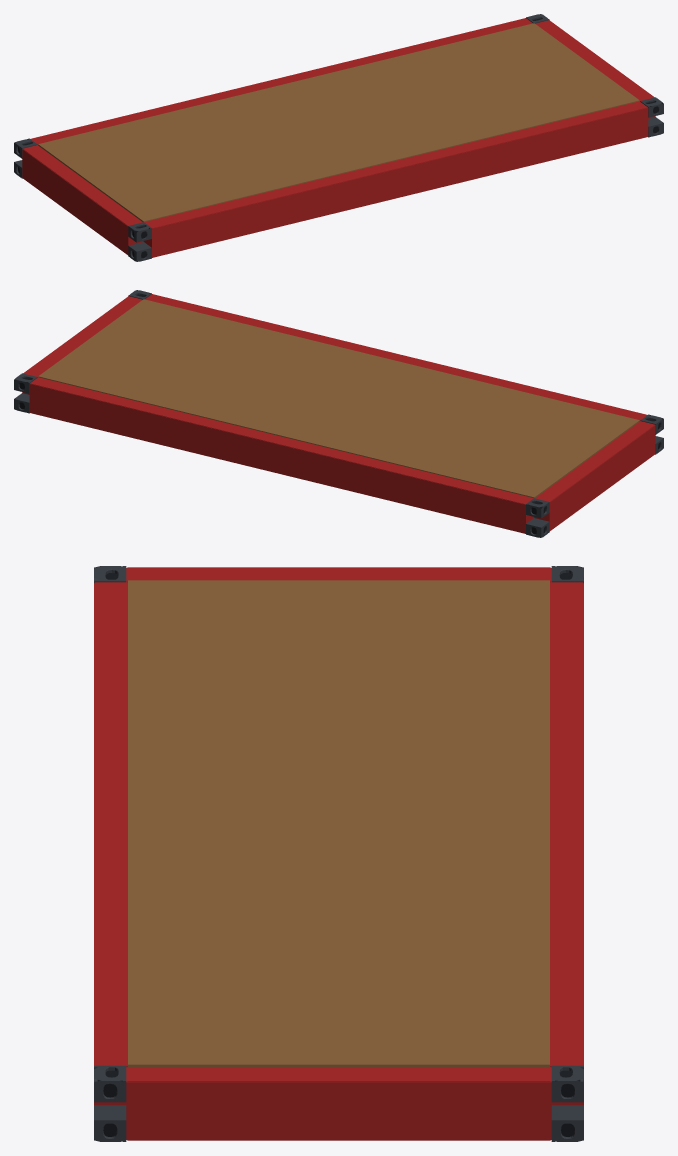
The model's file is iso_20ft_pl_29p0.obj.
3 renders of one model, top to bottom at view 1: azimuth 30°, elevation 25°; view 2: azimuth 150°, elevation 25°; view 3: azimuth 270°, elevation 25°, orthographic. The views are drawn at different scales.
Parts seen in each view (by area): view 1: 03_Marine_Wood_Floor, 02_Platform_Girders, 01_ISO_Corner_Castings_Hollow3D; view 2: 03_Marine_Wood_Floor, 02_Platform_Girders, 01_ISO_Corner_Castings_Hollow3D; view 3: 03_Marine_Wood_Floor, 02_Platform_Girders, 01_ISO_Corner_Castings_Hollow3D, 01_ISO_Corner_Castings_Hollow3D_Cavity.
Boxes of the visible parts, bbox=[...] form: 03_Marine_Wood_Floor: bbox=[38, 23, 639, 222]; 02_Platform_Girders: bbox=[22, 18, 655, 257]; 01_ISO_Corner_Castings_Hollow3D: bbox=[14, 14, 663, 261]; 03_Marine_Wood_Floor: bbox=[38, 299, 639, 498]; 02_Platform_Girders: bbox=[22, 294, 655, 533]; 01_ISO_Corner_Castings_Hollow3D: bbox=[14, 290, 663, 537]; 03_Marine_Wood_Floor: bbox=[128, 580, 549, 1066]; 02_Platform_Girders: bbox=[94, 567, 583, 1140]; 01_ISO_Corner_Castings_Hollow3D: bbox=[94, 566, 583, 1141]; 01_ISO_Corner_Castings_Hollow3D_Cavity: bbox=[97, 573, 580, 1136].
Bounding box in the file's own units: 6.06 × 0.34 × 2.44.
